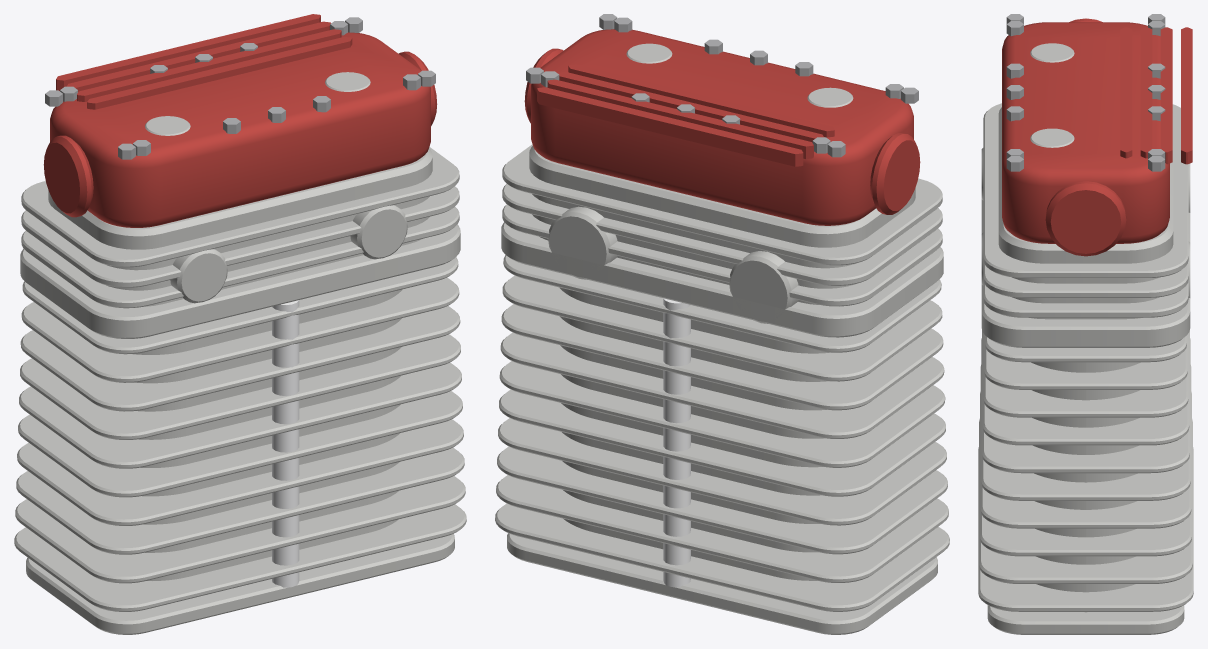
Rendered from hot_cam.glb.
3 views of the same model, side by side, from view 1: azimuth 30°, elevation 25°; view 2: azimuth 150°, elevation 25°; view 3: azimuth 270°, elevation 25° (orthographic). The views are drawn at different scales.
Visible parts, largest first — view 1: lod0; view 2: lod0; view 3: lod0.
Part boxes in pixels (x1,y1,x2,y2): lod0: [14, 14, 466, 634]; lod0: [495, 14, 949, 634]; lod0: [978, 14, 1193, 634].
Size of what is drawn, in the model's own units: 0.248 by 0.3043 by 0.128.
